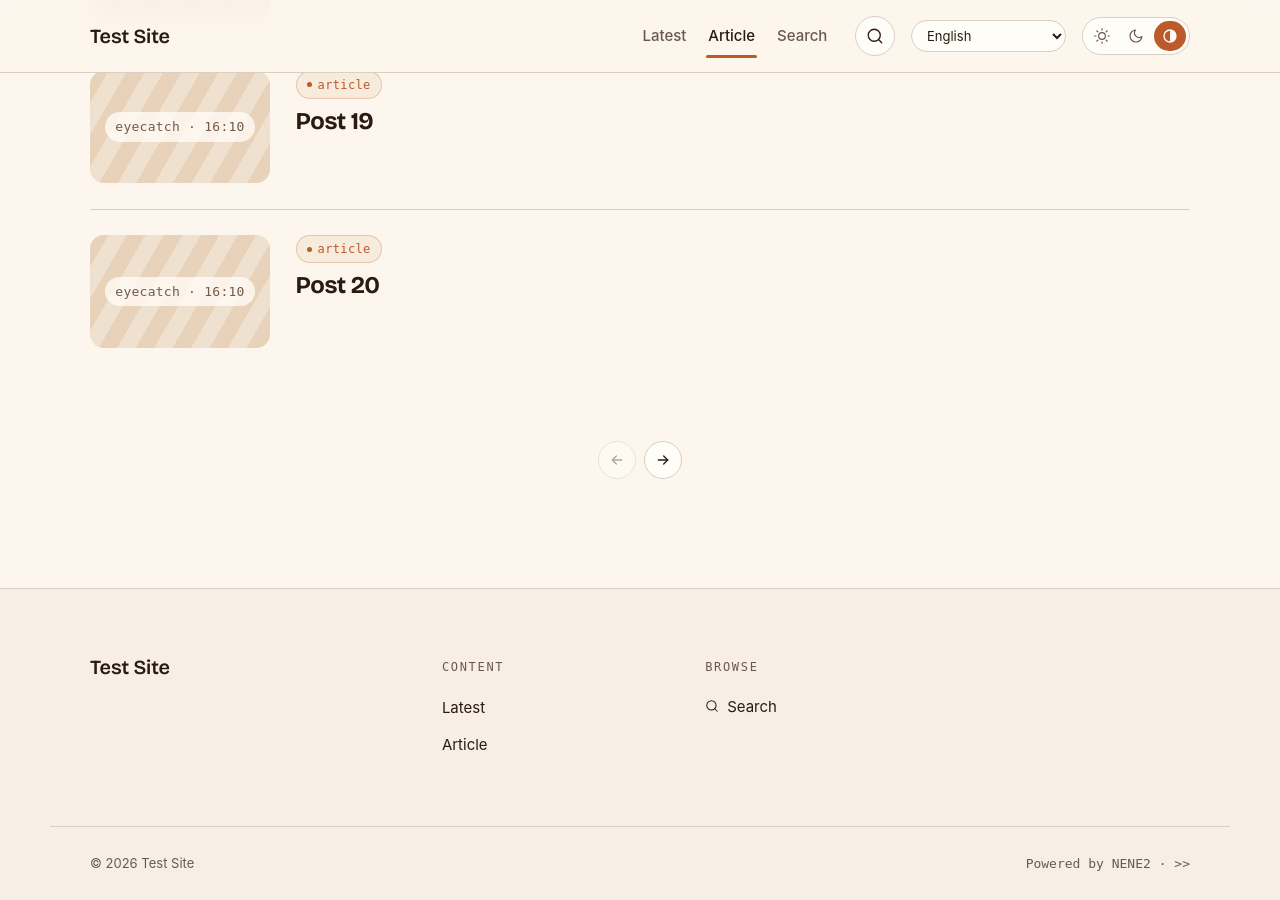
PublicBrowsePage › paginates records with offset query param
(page scrolled)
expect the link "Post 21" is not shown: met
Click the button named "Next page".
click(663, 460)  # box [644,441,682,479]
(page scrolled)
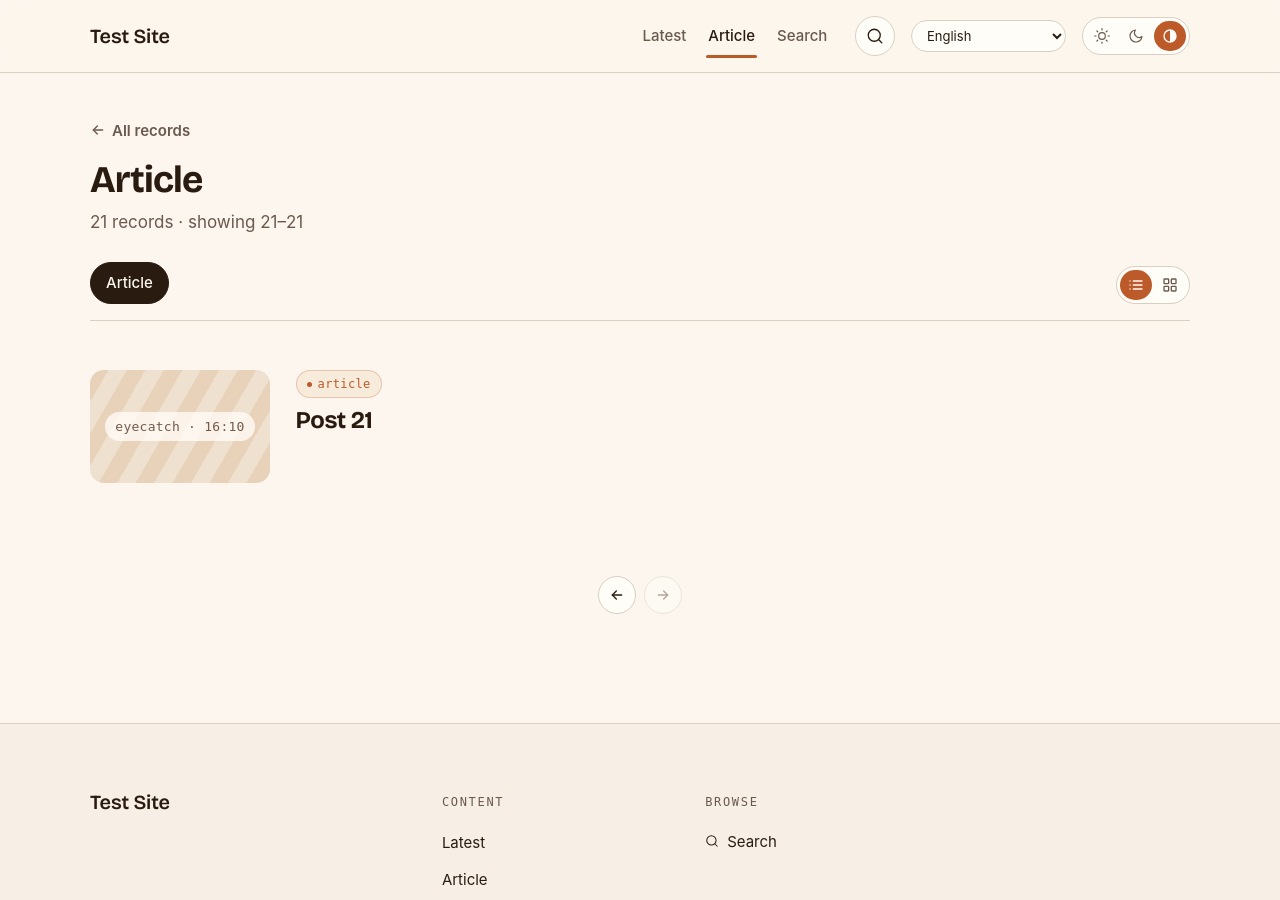
expect the text "21 records · showing 21–21" is shown: met, box [90,212,303,232]
expect the link "Post 21" is shown: met, box [296,406,372,434]
